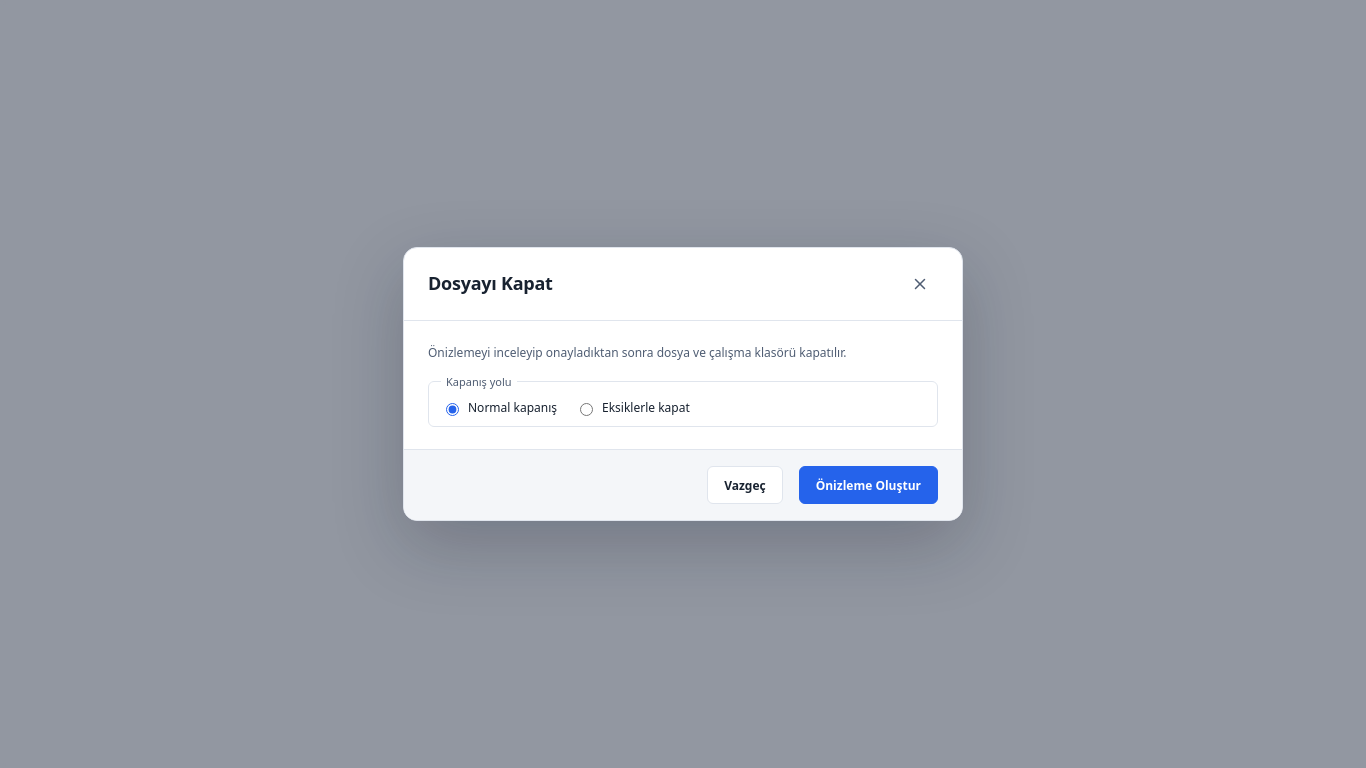
Scenario: CaseLifecycleModal › explains the rejected reason field and retains the entered reason
Click the radio button labelled "Eksiklerle kapat": (586, 409) [580,403,593,416]
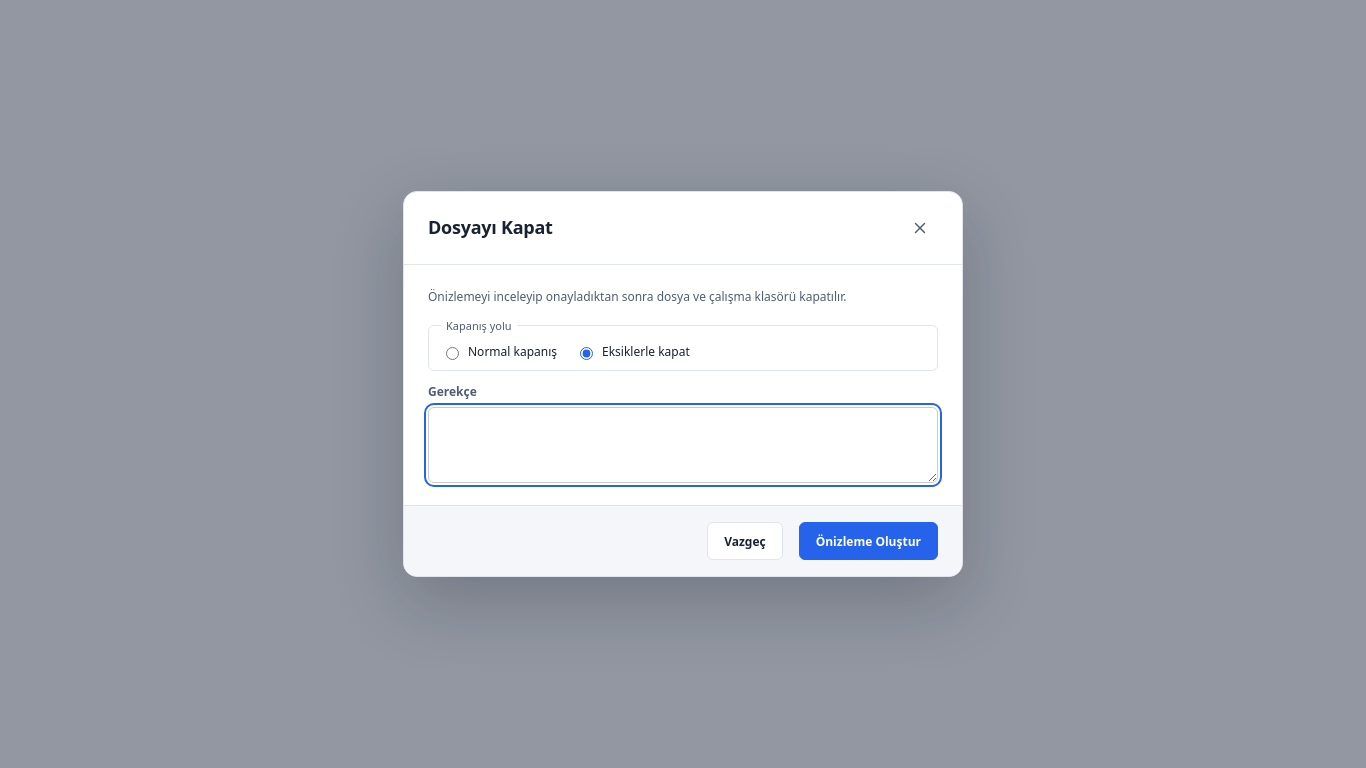
In the text box labelled "Gerekçe": (683, 445) [428,407,938,483], type "Eksik belgeler daha sonra tamamlanacak."
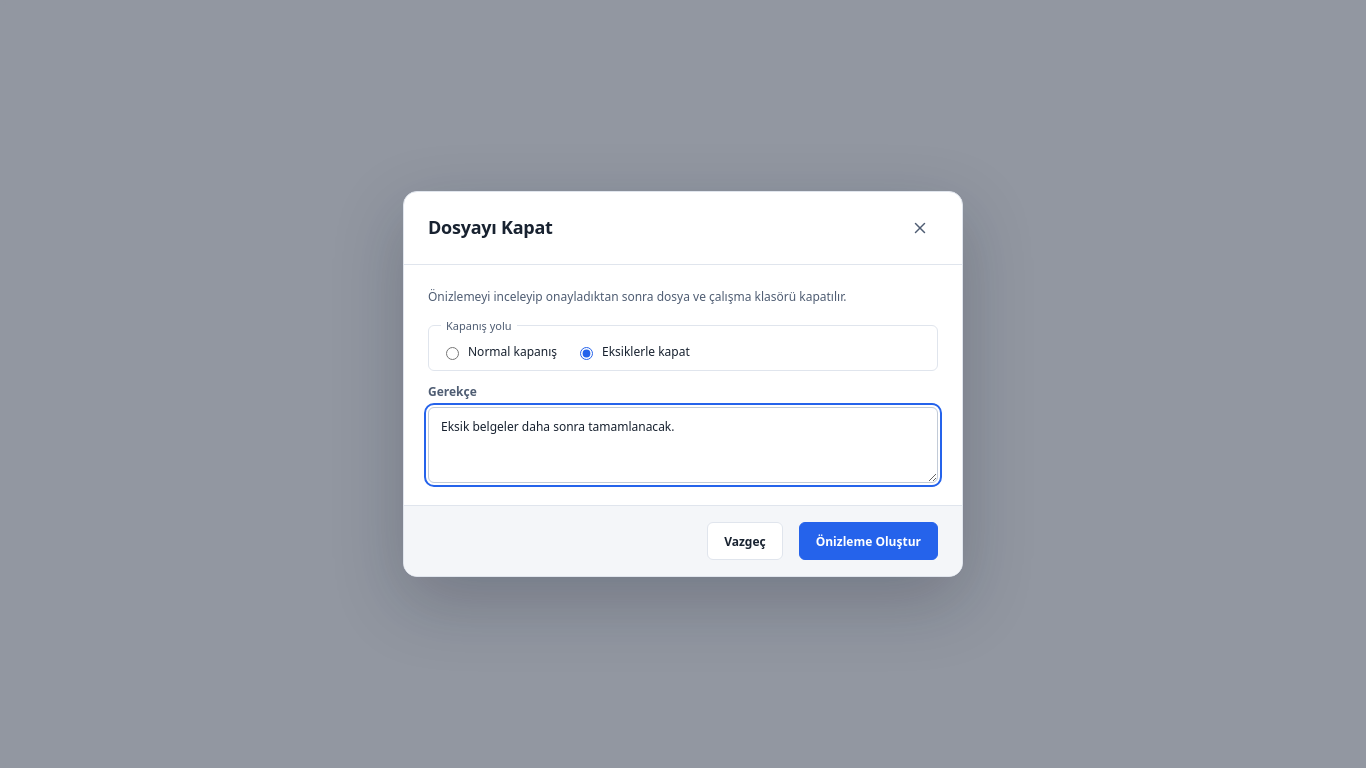
Click the button "Önizleme Oluştur": (868, 541) [799,522,938,560]
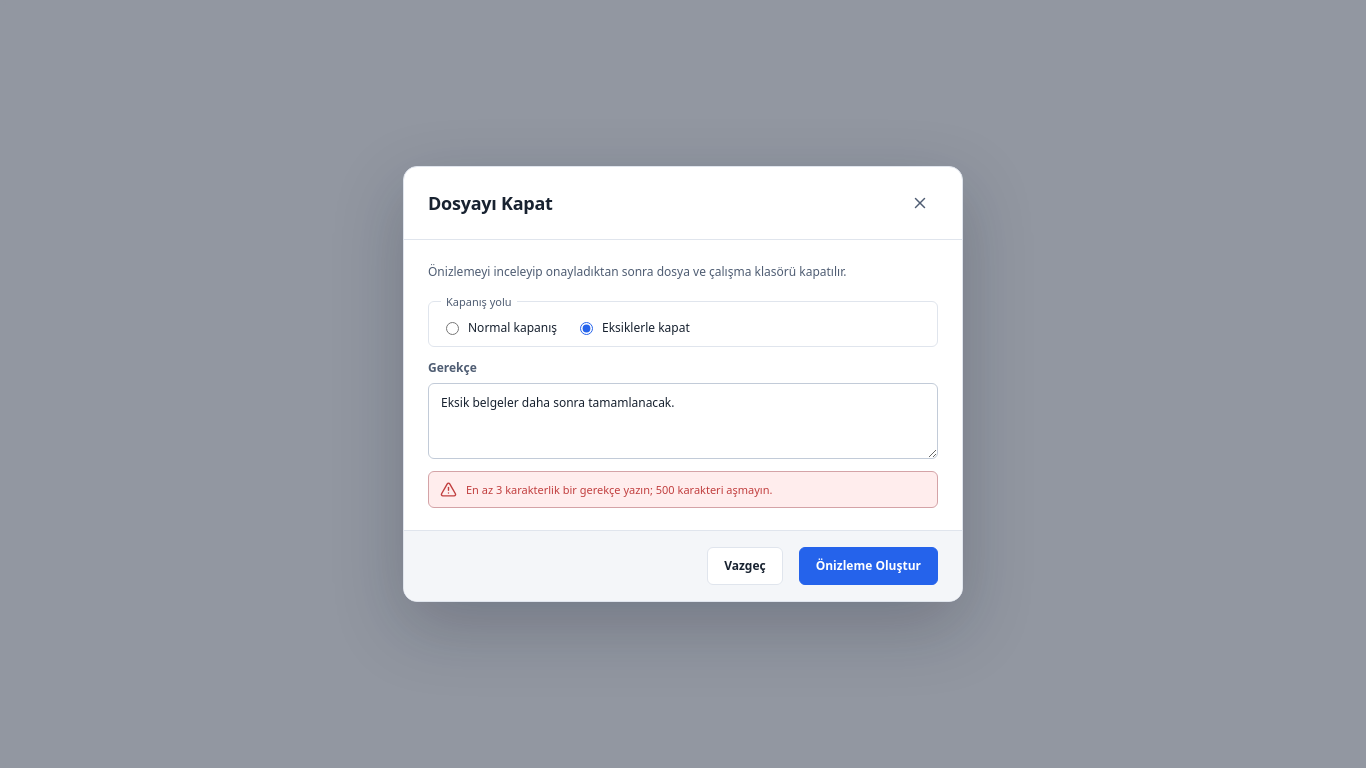
Expected: the radio button labelled "Eksiklerle kapat" is checked, [580,322,593,335]
Expected: the message shows "En az 3 karakterlik bir gerekçe yazın", [466,482,772,497]
